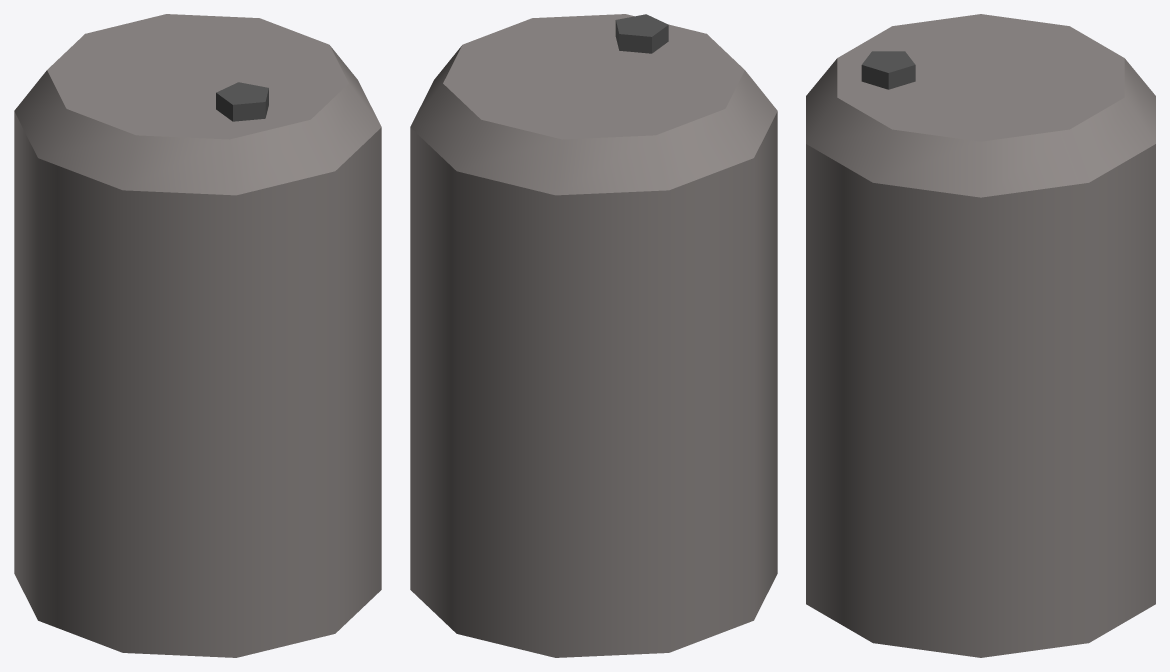
Rendered from SM_Barrel_01.fbx.
3 views of the same model, side by side, from view 1: azimuth 30°, elevation 25°; view 2: azimuth 150°, elevation 25°; view 3: azimuth 270°, elevation 25° (orthographic).
Parts seen in each view (by area): view 1: SM_Barrel_01; view 2: SM_Barrel_01; view 3: SM_Barrel_01.
Part boxes in pixels (left/top/right/bottom): SM_Barrel_01: left=14, top=14, right=381, bottom=657; SM_Barrel_01: left=410, top=14, right=777, bottom=657; SM_Barrel_01: left=806, top=14, right=1155, bottom=657.
Bounding box in the file's own units: 39.23 × 61.11 × 37.31.
